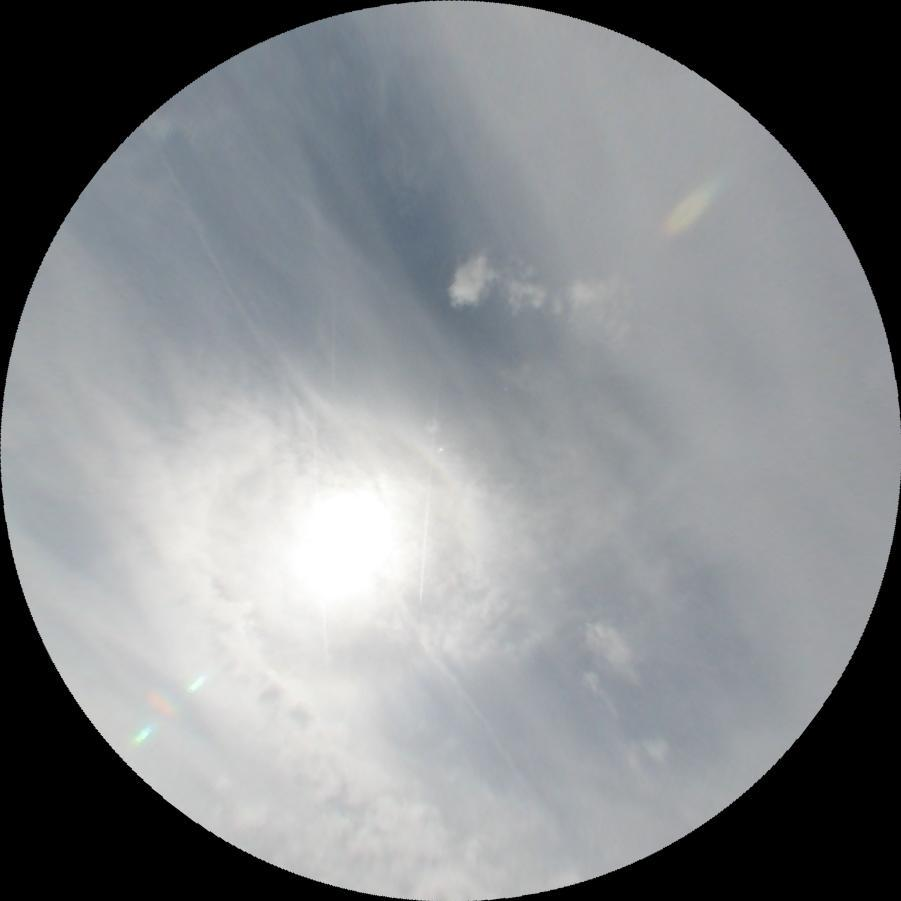contrail old: (132, 133, 539, 811)
contrail young: (417, 372, 442, 602), (310, 421, 330, 664), (331, 290, 335, 374)
sun: (273, 468, 415, 615)
